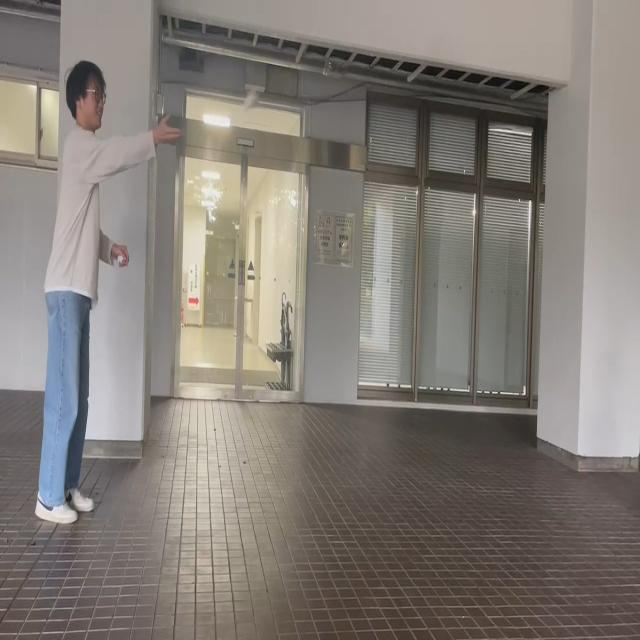paper: (241, 90, 258, 116), (115, 252, 126, 269)
